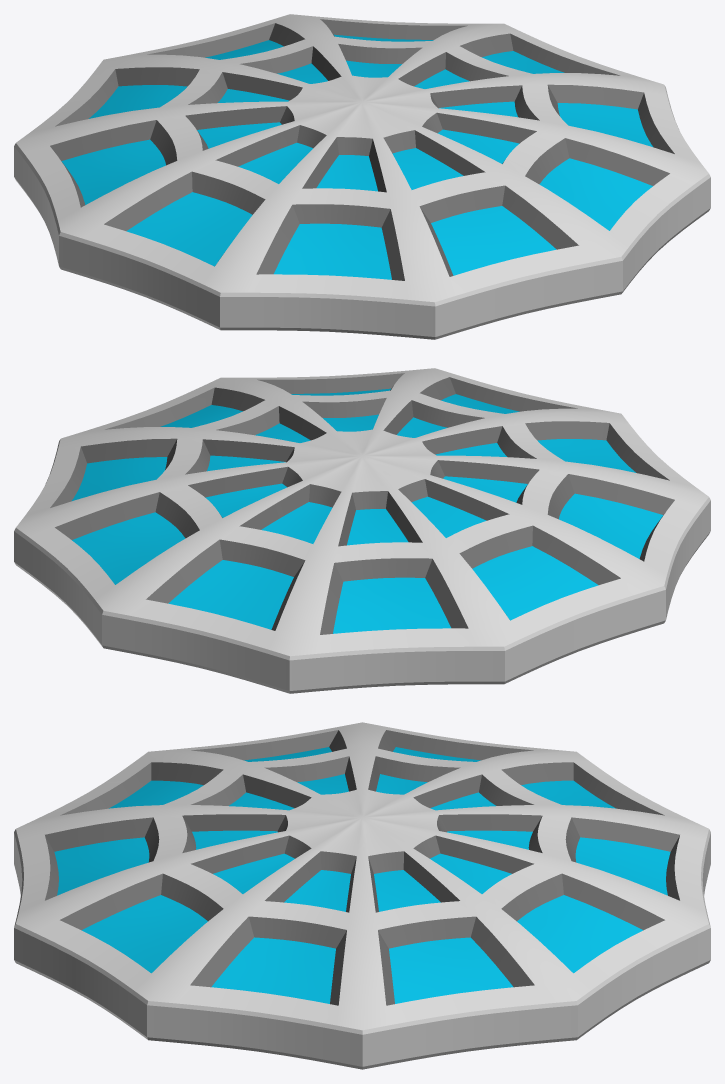
File: Web_model.fbx
3 renders of one model, top to bottom at view 1: azimuth 30°, elevation 25°; view 2: azimuth 150°, elevation 25°; view 3: azimuth 270°, elevation 25°, orthographic. The views are drawn at different scales.
Parts seen in each view (by area): view 1: Web; view 2: Web; view 3: Web.
Boxes of the visible parts, x1=… form: Web: x1=14, y1=14, x2=710, y2=339; Web: x1=14, y1=368, x2=710, y2=693; Web: x1=14, y1=722, x2=710, y2=1069.
Size of the model in its own units: 134 by 19.73 by 127.
